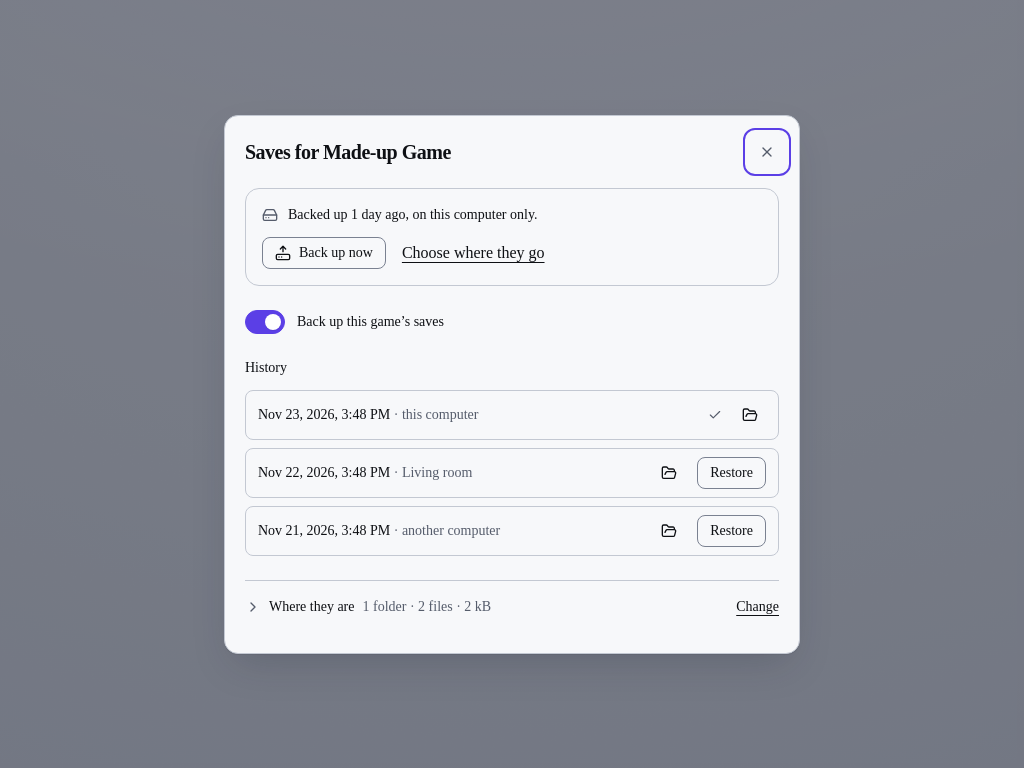
Test: a game’s saves › say why when the game is running
Expected: the switch labelled "Back up this game’s saves" is shown, [245,310,285,334]
Click the button "Back up now". click: (324, 252)
box: [262,236,386,268]
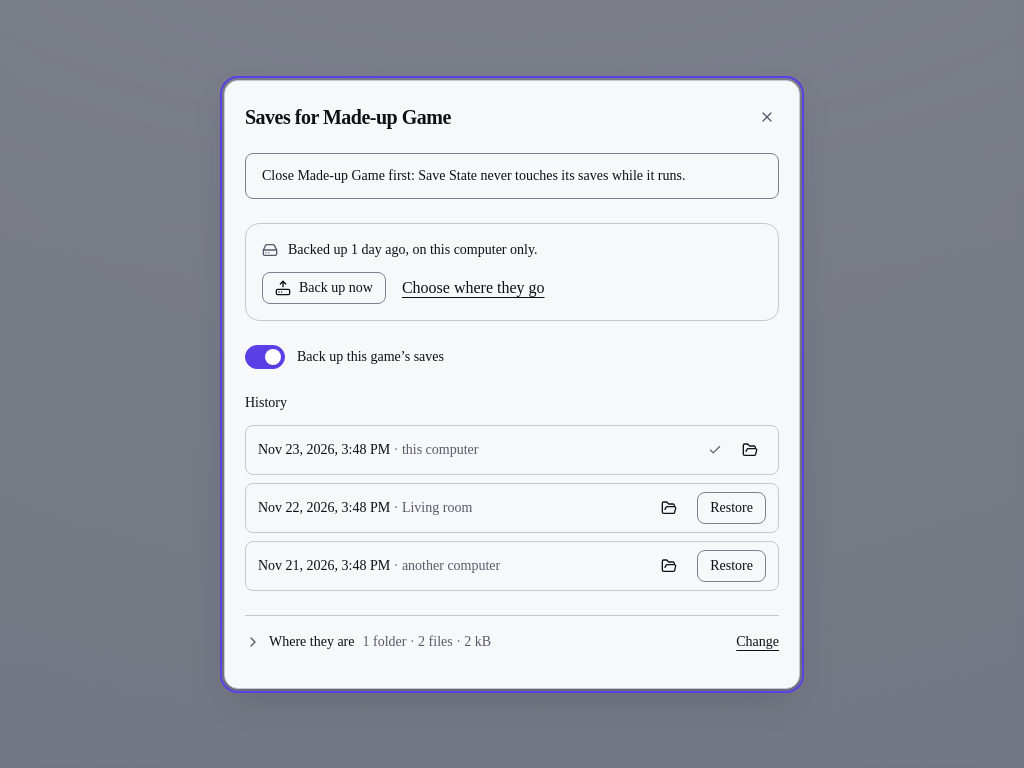
Expected: the message reads "Close Made-up Game first: Save State never touches its saves while it runs.", [262,168,685,182]
